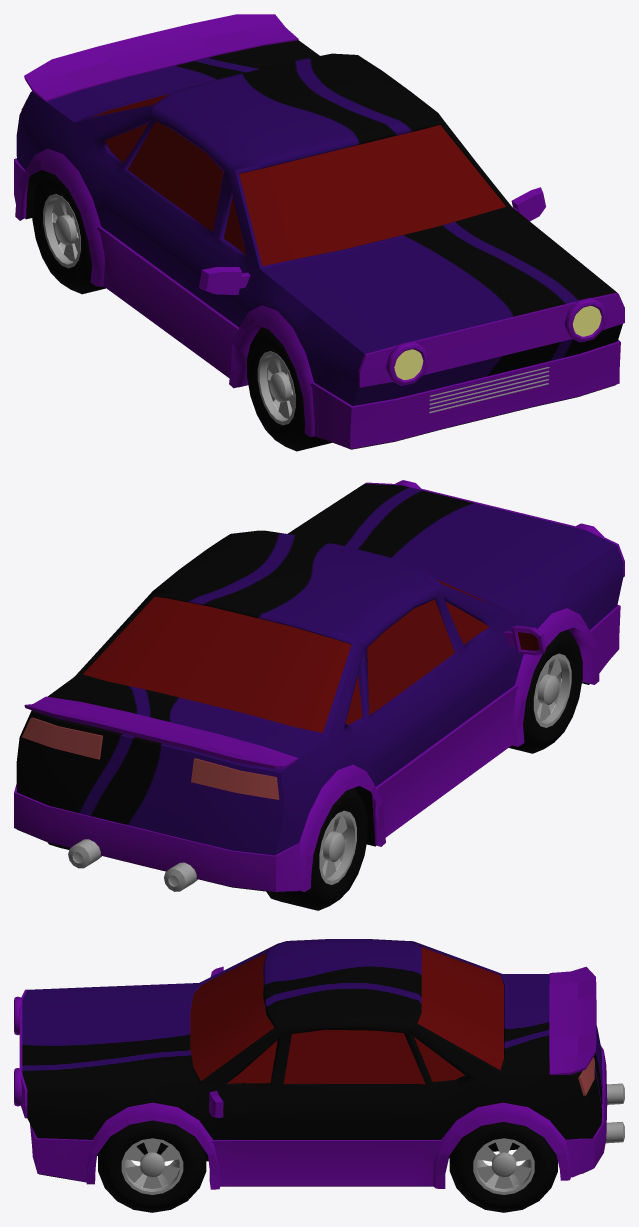
Rendered from Muscle Evolution2 Purple WaveBlackPurple DarkRed LightGrey.gltf.
The picture shows the model from 3 angles, top to bottom: view 1: azimuth 30°, elevation 25°; view 2: azimuth 150°, elevation 25°; view 3: azimuth 270°, elevation 25°; orthographic projection. The views are drawn at different scales.
Visible parts, largest first — view 1: evo2_body2_f1_dupl, evo2_frontGlass_f1_dupl, evo2_sill2_f1_dupl, evo2_spoiler2_f1_dupl, evo2_front_square2_f1_dupl, evo2_glasseBigR_f1_dupl, evo2_mudguardFR_f1_dupl, evo2_mudguardbR_f1_dupl, evo2_tire_rf1_f1_dupl, evo2_tire_rf_f1_dupl, evo2_rim_A_rf_f1_dupl, evo2_rim_A_rb_f1_dupl (+9 smaller); view 2: evo2_body2_f1_dupl, evo2_BackGlassGlass_f1_dupl, evo2_sill2_f1_dupl, evo2_spoiler2_f1_dupl, evo2_glasseBigR_f1_dupl, evo2_tire_rf_f1_dupl, evo2_mudguardbR_f1_dupl, evo2_mudguardFR_f1_dupl, evo2_tire_rf1_f1_dupl, evo2_rim_A_rf_f1_dupl, evo2_rim_A_rb_f1_dupl, evo2_redlightR2_f1_dupl (+5 smaller); view 3: evo2_body2_f1_dupl, evo2_sill2_f1_dupl, evo2_BackGlassGlass_f1_dupl, evo2_glasseBigL_f1_dupl, evo2_frontGlass_f1_dupl, evo2_tire_lf_f1_dupl, evo2_tire_lb_f1_dupl, evo2_spoiler2_f1_dupl, evo2_mudguardBL_f1_dupl, evo2_mudguardFL_f1_dupl, evo2_rim_A_lf_f1_dupl, evo2_rim_A_lb_f1_dupl (+4 smaller).
Boxes of the visible parts, x1,y1,x2,y2 form: evo2_body2_f1_dupl: (16, 40, 622, 405); evo2_frontGlass_f1_dupl: (239, 125, 505, 265); evo2_sill2_f1_dupl: (14, 158, 620, 449); evo2_spoiler2_f1_dupl: (24, 14, 298, 101); evo2_front_square2_f1_dupl: (358, 292, 624, 387); evo2_glasseBigR_f1_dupl: (128, 121, 223, 231); evo2_mudguardFR_f1_dupl: (229, 305, 314, 437); evo2_mudguardbR_f1_dupl: (15, 148, 104, 286); evo2_tire_rf1_f1_dupl: (247, 327, 331, 451); evo2_tire_rf_f1_dupl: (32, 171, 105, 294); evo2_rim_A_rf_f1_dupl: (257, 351, 295, 425); evo2_rim_A_rb_f1_dupl: (43, 194, 80, 268); evo2_body2_f1_dupl: (16, 483, 623, 855); evo2_BackGlassGlass_f1_dupl: (83, 596, 351, 732); evo2_sill2_f1_dupl: (14, 605, 620, 891); evo2_spoiler2_f1_dupl: (24, 696, 298, 768); evo2_glasseBigR_f1_dupl: (367, 599, 454, 715); evo2_tire_rf_f1_dupl: (266, 787, 367, 910); evo2_mudguardbR_f1_dupl: (299, 764, 385, 891); evo2_mudguardFR_f1_dupl: (512, 608, 599, 746); evo2_tire_rf1_f1_dupl: (509, 629, 582, 753); evo2_rim_A_rf_f1_dupl: (533, 653, 571, 727); evo2_rim_A_rb_f1_dupl: (319, 810, 356, 884); evo2_redlightR2_f1_dupl: (191, 758, 279, 799); evo2_body2_f1_dupl: (22, 939, 602, 1159); evo2_sill2_f1_dupl: (30, 1045, 607, 1186); evo2_BackGlassGlass_f1_dupl: (417, 946, 503, 1070); evo2_glasseBigL_f1_dupl: (283, 1029, 425, 1084); evo2_frontGlass_f1_dupl: (190, 953, 274, 1080); evo2_tire_lf_f1_dupl: (98, 1120, 206, 1212); evo2_tire_lb_f1_dupl: (449, 1122, 557, 1212); evo2_spoiler2_f1_dupl: (549, 966, 596, 1074); evo2_mudguardBL_f1_dupl: (433, 1102, 570, 1188); evo2_mudguardFL_f1_dupl: (86, 1102, 220, 1189); evo2_rim_A_lf_f1_dupl: (121, 1138, 183, 1194); evo2_rim_A_lb_f1_dupl: (473, 1138, 534, 1194).
Bounding box in the file's own units: 177 × 112 × 331.
7 materials, 1 textured.
